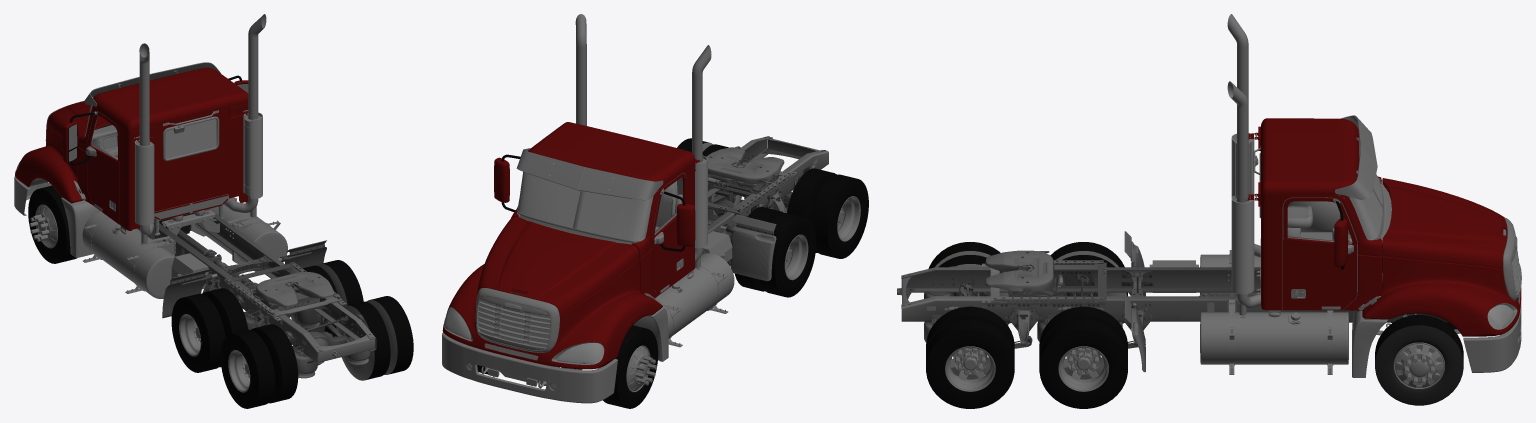
File: columbia.glb
The picture shows the model from 3 angles, left to right: view 1: azimuth 30°, elevation 25°; view 2: azimuth 150°, elevation 25°; view 3: azimuth 270°, elevation 25°; orthographic projection. The views are drawn at different scales.
Visible parts, largest first — view 1: piece_30.002, piece_10.001, piece_13.001, piece_23.004, piece_24.004, piece_12.004, piece_5.017, piece_5.015, piece_0.043, piece_0.017, piece_1.042, piece_0.035 (+26 smaller); view 2: piece_23.004, piece_30.002, piece_4.008, piece_28.002, piece_10.001, piece_0.024, piece_13.001, piece_0.017, piece_22.004, piece_1.042, piece_0.043, piece_5.001 (+22 smaller); view 3: piece_30.002, piece_23.004, piece_10.001, piece_13.001, piece_4.007, piece_4.015, piece_2.002, piece_24.004, piece_5.001, piece_0.017, piece_4.008, piece_0.024 (+21 smaller).
Part boxes in pixels (x1,y1,x2,y2): piece_30.002: (77,67,248,230); piece_10.001: (137,209,376,378); piece_13.001: (82,197,287,298); piece_23.004: (15,101,110,202); piece_24.004: (135,112,262,225); piece_12.004: (61,116,247,257); piece_5.017: (233,324,298,407); piece_5.015: (349,296,413,379); piece_0.043: (220,328,282,408); piece_0.017: (139,14,263,145); piece_1.042: (233,324,297,407); piece_0.035: (171,292,232,372); piece_23.004: (442,216,662,369); piece_30.002: (511,122,695,298); piece_4.008: (442,332,617,403); piece_28.002: (518,171,652,240); piece_10.001: (708,136,828,266); piece_0.024: (516,148,663,200); piece_13.001: (655,253,734,337); piece_0.017: (575,14,711,162); piece_22.004: (475,160,701,360); piece_1.042: (787,168,854,258); piece_0.043: (804,172,868,258); piece_5.001: (706,147,784,187); piece_30.002: (1260,118,1381,310); piece_23.004: (1362,178,1521,336); piece_10.001: (901,251,1448,355); piece_13.001: (1200,254,1348,364); piece_4.007: (1039,315,1127,408); piece_4.015: (926,316,1014,408); piece_2.002: (1375,325,1463,405); piece_24.004: (1231,133,1254,294); piece_5.001: (985,250,1062,291); piece_0.017: (1227,14,1248,201); piece_4.008: (1463,300,1521,372); piece_0.024: (1335,115,1377,199).
Bounding box in the file's own units: 2.85 × 4.02 × 7.16.
